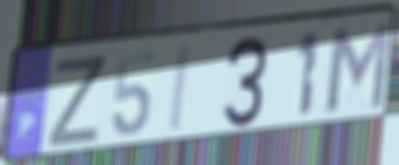1: (295, 28, 320, 118)
3: (219, 32, 271, 131)
5: (110, 48, 158, 139)
I: (167, 42, 193, 137)
M: (324, 18, 394, 116)
Z: (45, 54, 107, 150)
